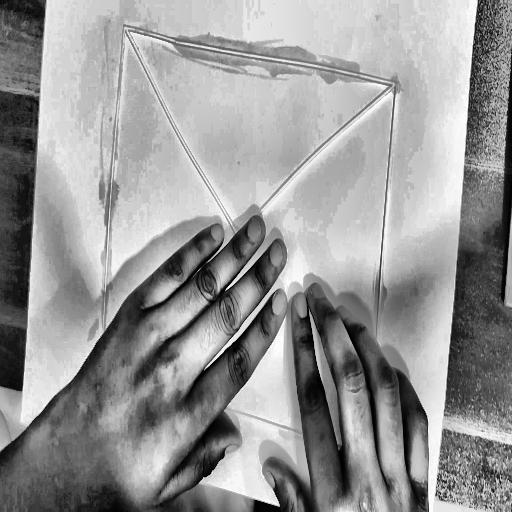bottom_left: (16, 413, 25, 428)
envelop: (85, 17, 408, 470)
